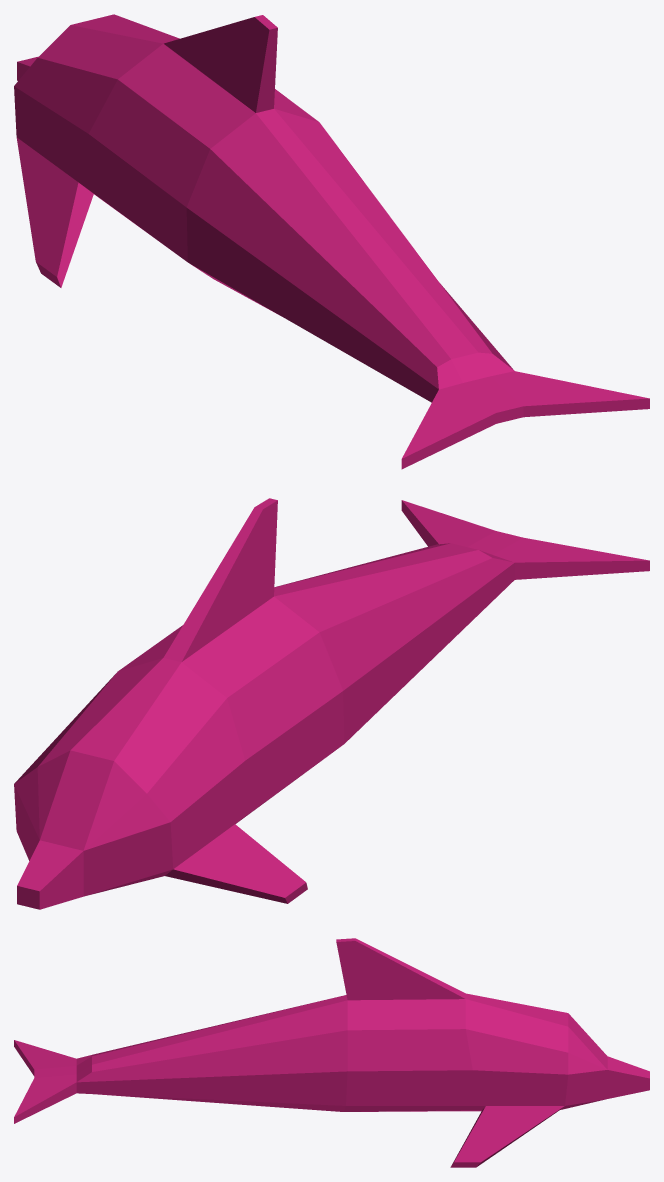
Rendered from dolphin_pink.obj.
3 views of the same model, one above another, from view 1: azimuth 30°, elevation 25°; view 2: azimuth 150°, elevation 25°; view 3: azimuth 270°, elevation 25° (orthographic). The views are drawn at different scales.
Visible parts, largest first — view 1: Mesh_Untitled; view 2: Mesh_Untitled; view 3: Mesh_Untitled.
Part boxes in pixels (x1,y1,x2,y2): Mesh_Untitled: (14,14,649,469); Mesh_Untitled: (14,498,649,909); Mesh_Untitled: (14,938,649,1167).
Bounding box in the file's own units: 0.78 × 0.8867 × 2.69.
